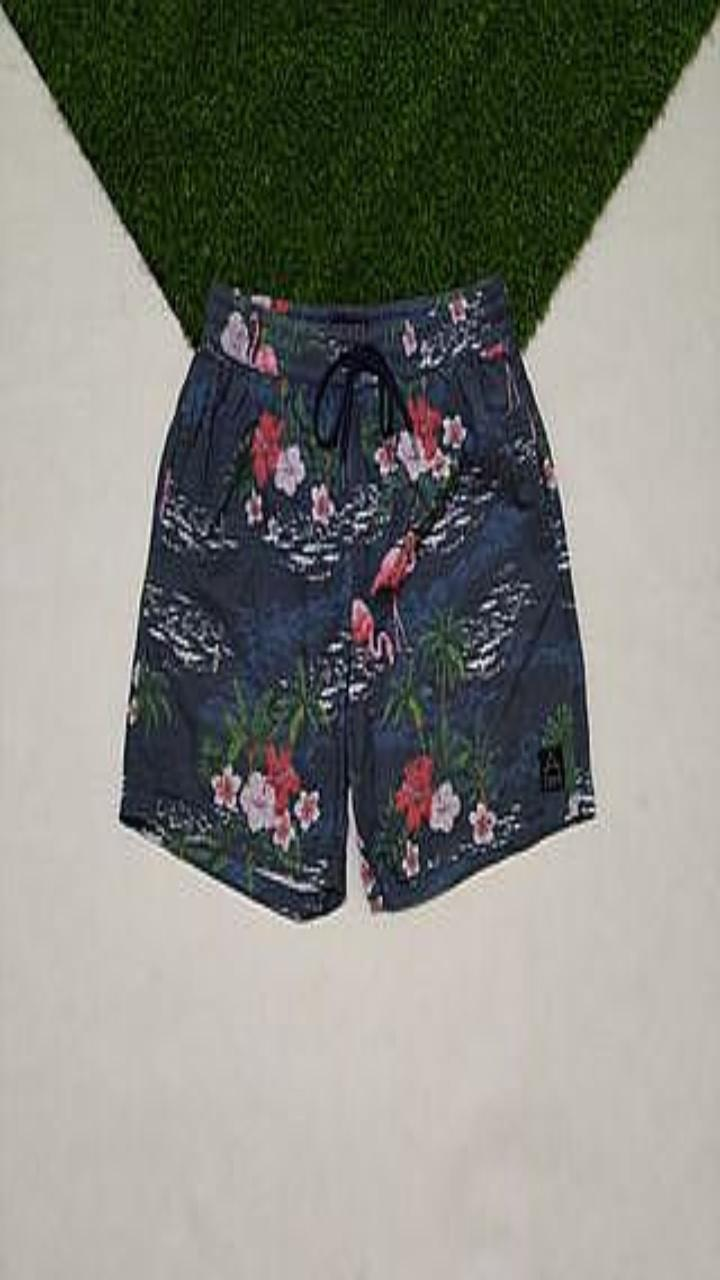Shorts: (119, 276, 594, 919)
